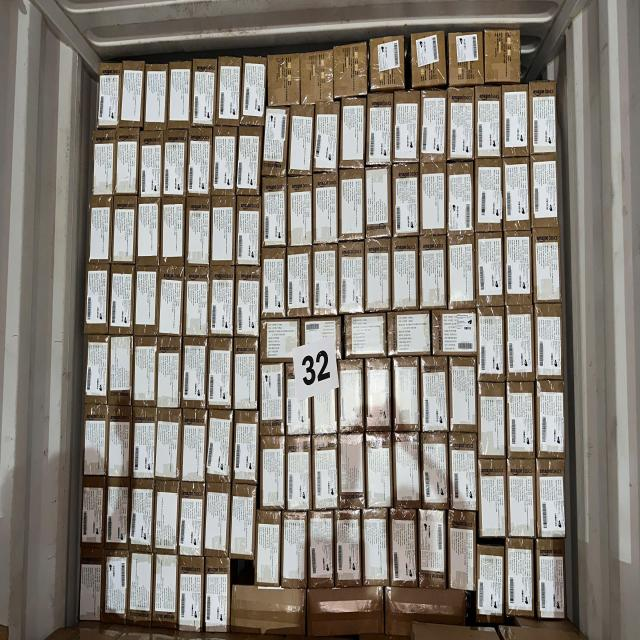Carton: (386, 590, 472, 638), (234, 585, 306, 639), (307, 591, 387, 638), (536, 535, 567, 621), (477, 457, 509, 538), (419, 507, 449, 593), (535, 303, 567, 381), (390, 508, 420, 590), (419, 356, 451, 432), (528, 154, 560, 229), (504, 306, 536, 381), (477, 380, 507, 460), (531, 229, 562, 306), (474, 157, 504, 235), (505, 382, 535, 460), (448, 432, 476, 515), (420, 434, 450, 511), (509, 459, 537, 541), (537, 380, 567, 456), (391, 357, 421, 433), (418, 161, 448, 236), (504, 231, 534, 306), (476, 308, 506, 383), (477, 540, 505, 620), (362, 508, 390, 588), (256, 510, 284, 590), (506, 539, 535, 616), (448, 514, 477, 591), (474, 86, 504, 159), (418, 235, 448, 308), (446, 158, 474, 236), (450, 356, 478, 434), (537, 459, 565, 537), (203, 557, 231, 635), (176, 558, 204, 636), (337, 359, 366, 434), (447, 236, 477, 308), (152, 550, 178, 633), (309, 510, 335, 592), (127, 548, 153, 630), (364, 165, 392, 241), (311, 360, 339, 436), (286, 434, 314, 510), (393, 433, 421, 509), (77, 553, 105, 628), (336, 510, 362, 590), (283, 513, 309, 593), (393, 162, 421, 236), (503, 157, 531, 231), (338, 242, 366, 316), (80, 481, 108, 555), (367, 431, 393, 510), (484, 30, 522, 84), (339, 433, 366, 509), (106, 408, 134, 481), (365, 240, 394, 310), (476, 234, 504, 306), (448, 86, 474, 163), (233, 334, 259, 411), (260, 434, 286, 511), (393, 239, 421, 310), (529, 79, 555, 154), (366, 357, 392, 432), (231, 485, 257, 560), (180, 482, 206, 557), (389, 312, 433, 356), (260, 318, 302, 364), (434, 310, 476, 356), (261, 176, 287, 250), (208, 339, 234, 413), (312, 436, 338, 510), (286, 251, 315, 317), (411, 34, 447, 87), (285, 366, 313, 434), (104, 484, 132, 552), (183, 336, 208, 412), (82, 404, 107, 480), (422, 88, 448, 161), (132, 336, 158, 409), (155, 411, 181, 484), (344, 315, 388, 358), (301, 317, 343, 362), (185, 196, 211, 268), (211, 194, 237, 266), (210, 266, 236, 338), (109, 337, 135, 409), (261, 362, 287, 434), (154, 482, 180, 554), (340, 98, 367, 167), (105, 548, 127, 632), (287, 177, 313, 248), (204, 487, 230, 558), (369, 39, 405, 90), (448, 33, 484, 84), (395, 88, 420, 161), (367, 91, 393, 161), (314, 246, 340, 316), (183, 267, 209, 337), (207, 414, 233, 484), (182, 412, 206, 487), (313, 174, 339, 243), (133, 268, 159, 337), (131, 483, 157, 552), (503, 84, 527, 158), (340, 169, 364, 243), (235, 264, 259, 338), (158, 336, 182, 410), (132, 408, 156, 482), (234, 412, 258, 486), (334, 44, 368, 96), (160, 195, 184, 268), (290, 105, 314, 177), (212, 129, 238, 195), (158, 270, 184, 336), (192, 57, 216, 127), (315, 102, 339, 171), (237, 198, 260, 270), (267, 55, 301, 103), (301, 54, 335, 102), (88, 198, 112, 266), (262, 249, 286, 317), (110, 268, 134, 336), (265, 107, 288, 177), (238, 127, 261, 197), (163, 130, 187, 197), (115, 129, 139, 195), (85, 336, 107, 408), (113, 196, 135, 266), (138, 198, 160, 268), (187, 130, 211, 194), (169, 60, 191, 128), (218, 56, 240, 124), (86, 267, 108, 335), (92, 129, 114, 196), (140, 132, 163, 196), (98, 62, 120, 127), (122, 60, 143, 128), (243, 56, 264, 124), (146, 62, 166, 131)
